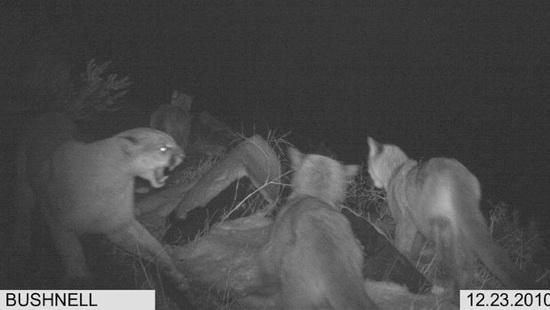mountain lion: (358, 128, 547, 291), (20, 129, 201, 288), (235, 139, 393, 310), (144, 81, 198, 150), (202, 113, 231, 139)
